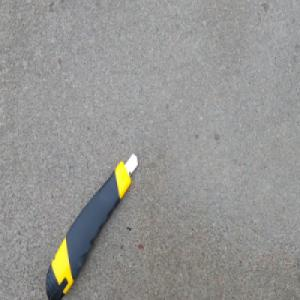Cutter: (44, 150, 138, 295)
